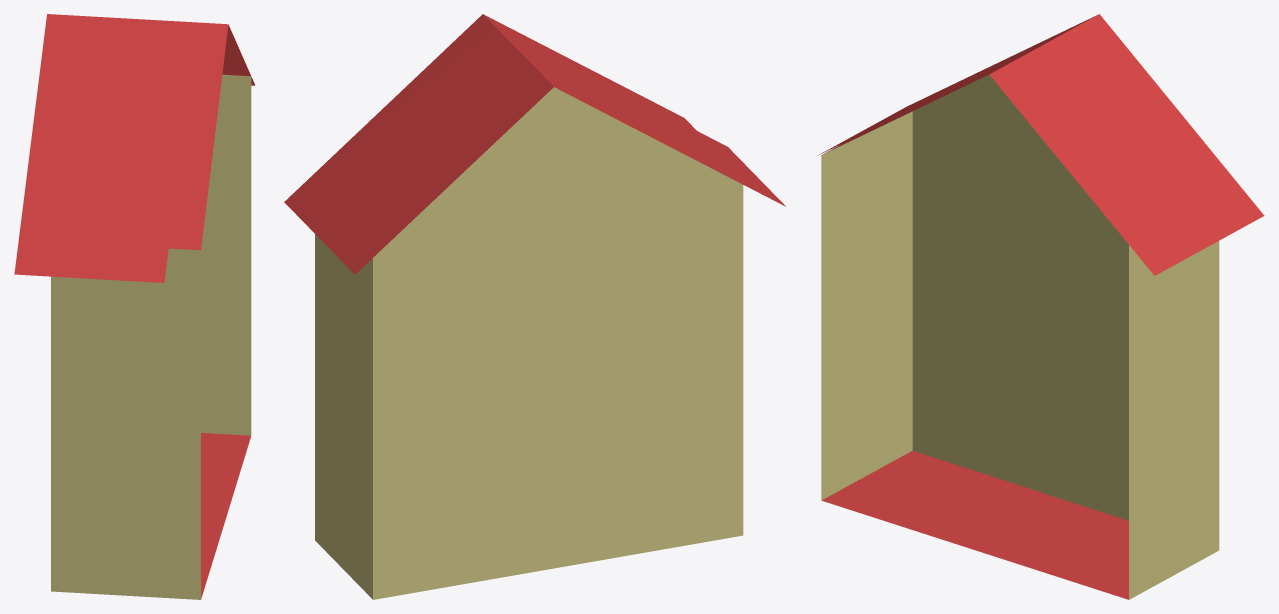
The picture shows the model from 3 angles, left to right: view 1: azimuth 30°, elevation 25°; view 2: azimuth 150°, elevation 25°; view 3: azimuth 270°, elevation 25°; orthographic projection. The views are drawn at different scales.
Bounding box in the file's own units: 9.74 × 10.45 × 12.33.
